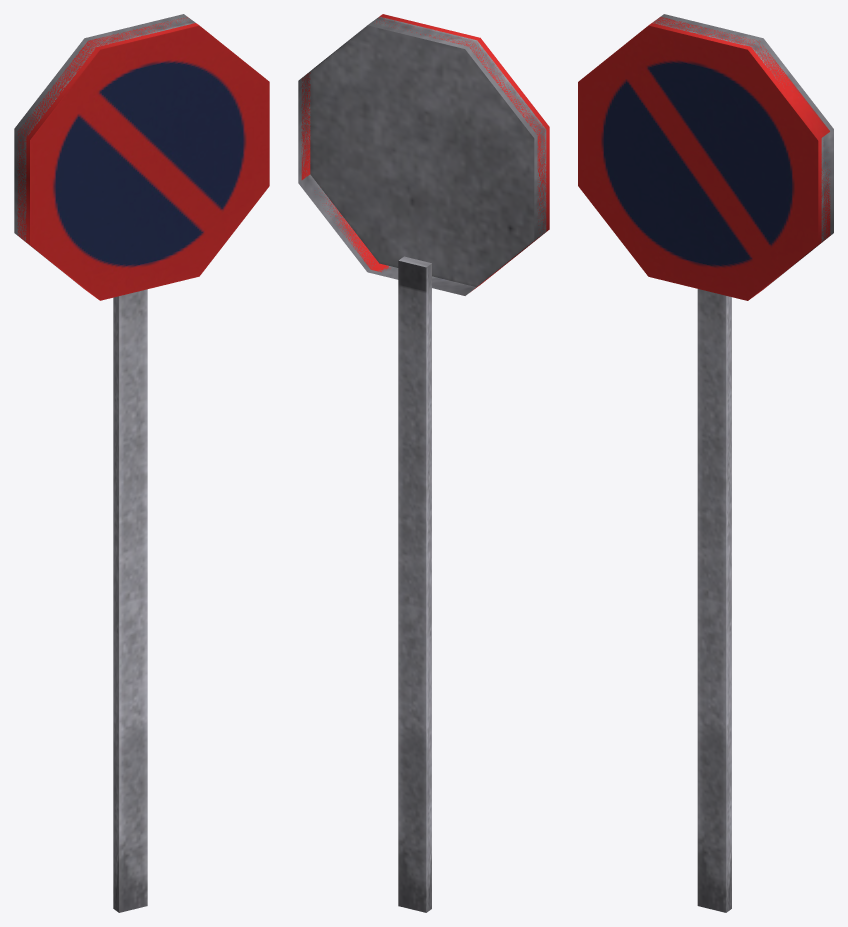
File: signal2.FBX
3 views of the same model, side by side, from view 1: azimuth 30°, elevation 25°; view 2: azimuth 150°, elevation 25°; view 3: azimuth 330°, elevation 25° (orthographic).
Parts seen in each view (by area): view 1: prop_signal2_LOD0; view 2: prop_signal2_LOD0; view 3: prop_signal2_LOD0.
Boxes of the visible parts, x1,y1,x2,y2 form: prop_signal2_LOD0: (14,14,269,912); prop_signal2_LOD0: (298,14,549,912); prop_signal2_LOD0: (578,14,833,912).
Size of what is drawn, in the model's own units: 0.7653 by 2.69 by 0.1157.
